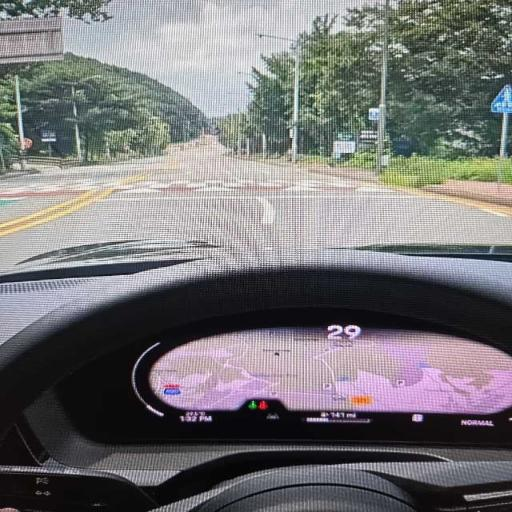lane: (0, 146, 511, 270)
